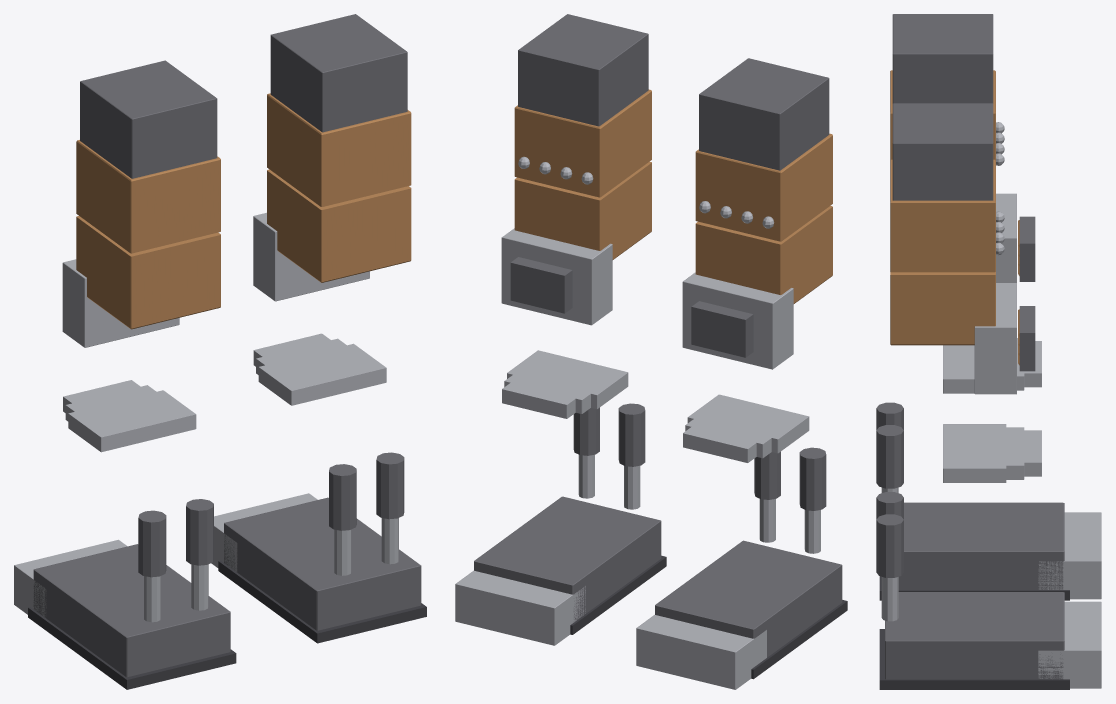
The model's file is legs-bruiser2.glb.
3 views of the same model, side by side, from view 1: azimuth 30°, elevation 25°; view 2: azimuth 150°, elevation 25°; view 3: azimuth 270°, elevation 25° (orthographic). The views are drawn at different scales.
Visible parts, largest first — view 1: thigh_l, thigh_r, foot_r, foot_l, hip_l, hip_r, plate0_l, plate0_r, kneeshroud_r, kneeshroud_l, sole_r, sole_l (+12 smaller); view 2: thigh_r, thigh_l, foot_l, foot_r, hip_l, hip_r, toe_r, toe_l, kneeshroud_l, kneeshroud_r, plate0_l, plate0_r (+16 smaller); view 3: thigh_l, foot_l, foot_r, hip_l, hip_r, toe_l, toe_r, kneeshroud_l, plate0_l, sole_l, sleeve_l, sleeve.002_r (+12 smaller).
Part boxes in pixels (left/top/right/bottom): thigh_l: left=267, top=93, right=411, bottom=282; thigh_r: left=76, top=140, right=220, bottom=329; foot_r: left=33, top=544, right=230, bottom=677; foot_l: left=224, top=497, right=421, bottom=630; hip_l: left=270, top=14, right=407, bottom=132; hip_r: left=80, top=60, right=217, bottom=178; plate0_l: left=258, top=343, right=386, bottom=405; plate0_r: left=68, top=390, right=196, bottom=452; kneeshroud_r: left=62, top=259, right=179, bottom=347; kneeshroud_l: left=253, top=212, right=369, bottom=301; sole_r: left=28, top=607, right=236, bottom=689; sole_l: left=218, top=560, right=426, bottom=643; thigh_r: left=695, top=133, right=832, bottom=303; thigh_l: left=514, top=89, right=651, bottom=259; foot_l: left=474, top=496, right=661, bottom=621; foot_r: left=655, top=540, right=842, bottom=657; hip_l: left=518, top=14, right=648, bottom=126; hip_r: left=699, top=58, right=829, bottom=170; toe_r: left=636, top=615, right=766, bottom=689; toe_l: left=455, top=570, right=585, bottom=645; kneeshroud_l: left=501, top=228, right=612, bottom=325; kneeshroud_r: left=682, top=272, right=793, bottom=369; plate0_l: left=507, top=350, right=628, bottom=409; plate0_r: left=687, top=394, right=809, bottom=453; thigh_l: left=890, top=159, right=995, bottom=345; foot_l: left=885, top=592, right=1064, bottom=679; foot_r: left=898, top=502, right=1064, bottom=589; hip_l: left=892, top=103, right=993, bottom=200; hip_r: left=892, top=14, right=993, bottom=103; toe_l: left=1038, top=601, right=1101, bottom=688; toe_r: left=1038, top=512, right=1101, bottom=599; kneeshroud_l: left=974, top=283, right=1016, bottom=394; plate0_l: left=943, top=424, right=1006, bottom=482; sole_l: left=879, top=629, right=1069, bottom=689; sleeve_l: left=876, top=514, right=903, bottom=577; sleeve.002_r: left=876, top=425, right=903, bottom=488.
Bounding box in the file's own units: 0.63 × 1.13 × 0.426.
